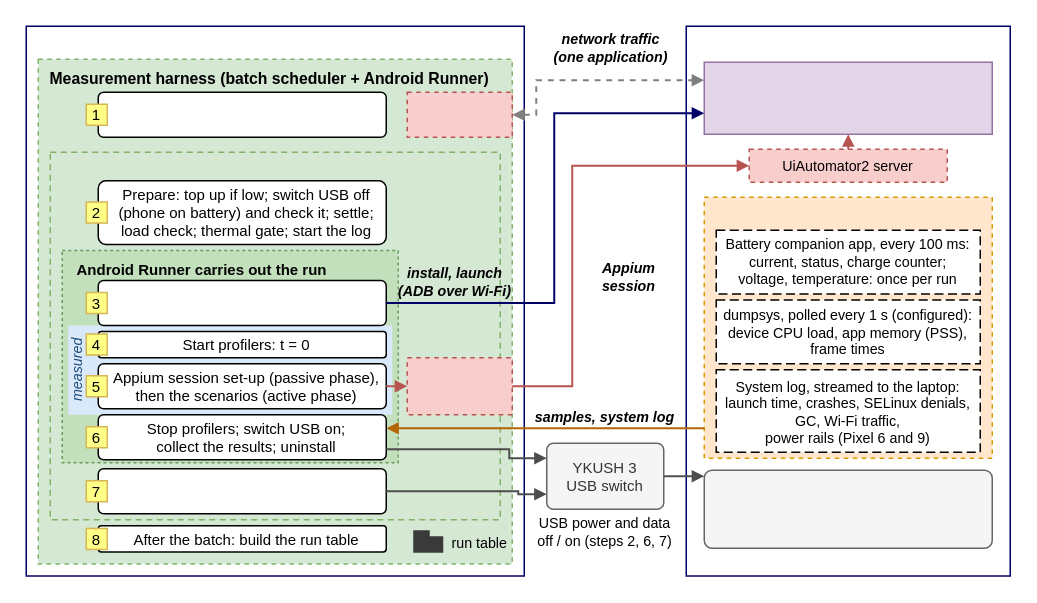
Image size: 1037x603. Some labels were removed from this diagram. Here are the shapes that lost their labels. From the top down, the box of each, then its label:
(97, 91, 386, 137): Start a batch: Appium servers, proxy; a shuffled queue per phone
(406, 91, 512, 137): mitmproxy (replay)
(703, 61, 992, 134): Application under test (control or protected build)
(97, 279, 386, 326): Device state, fresh install, compilation request; launch (timed)
(25, 25, 524, 576): Host laptop
(685, 25, 1010, 576): Phone (Pixel 3, 6, 9)
(49, 151, 500, 520): Loop: for each run, on each phone
(703, 196, 992, 458): Recorded during the run
(406, 356, 512, 415): Appium server
(97, 467, 386, 514): Switch USB off again; stop the log; mark the run valid or failed
(703, 469, 992, 548): Battery and fuel gauge (discharging while USB is off)
